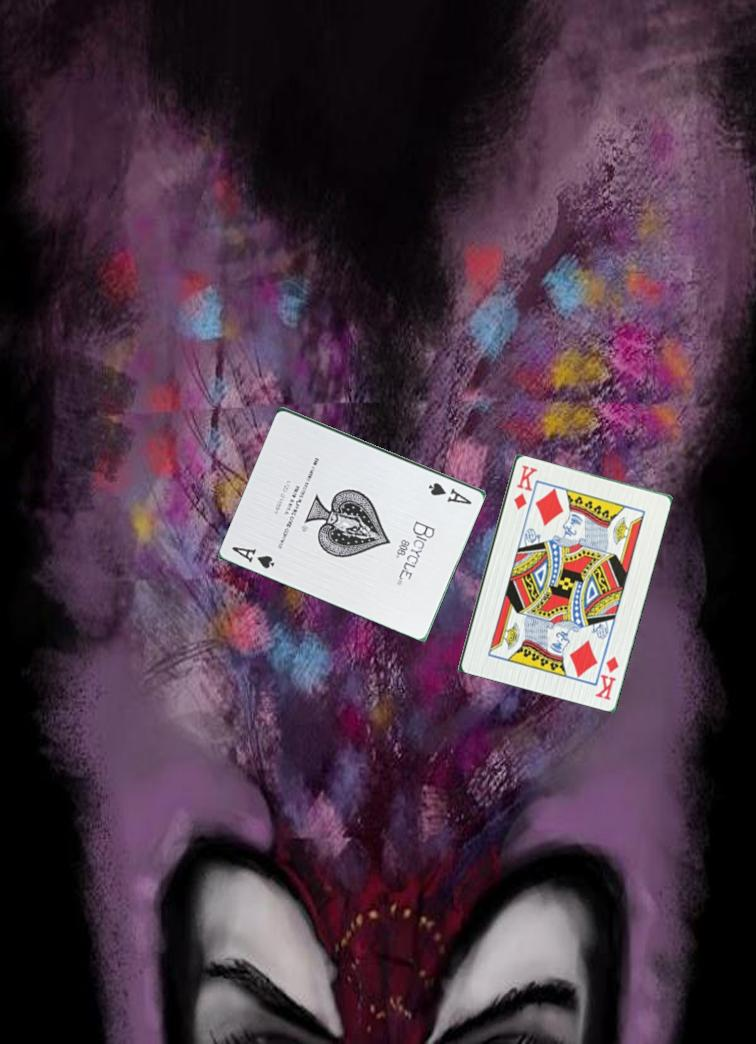as: (229, 543, 278, 572), (425, 479, 475, 507)
kd: (592, 652, 621, 702), (510, 461, 538, 512)
